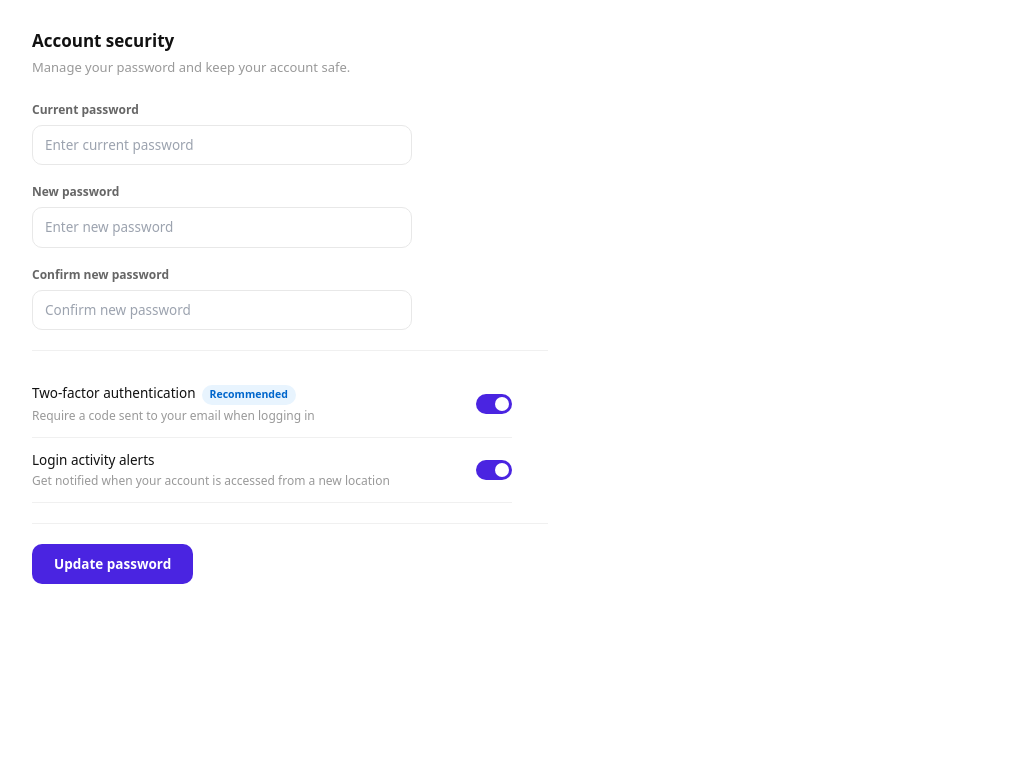
Scenario: SecuritySection › disabling two-factor authentication › asks for the current password and turns 2FA off on success
Click the checkbox in the row of "Recommended".
click(494, 404)  # box [476,394,512,414]
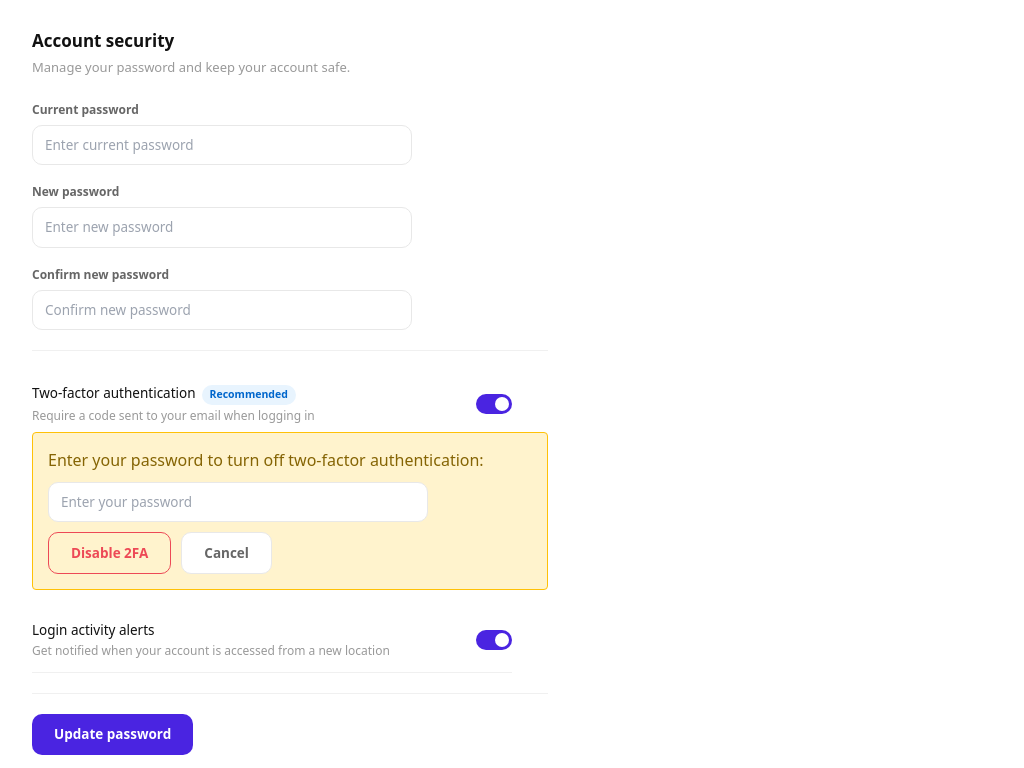
Check: the text "Enter your password to turn off two-factor authentication:" is shown, box [48,448,532,472]
Type "MyPassword123" into the password field with placeholder "Enter your password".
click(238, 502); type("MyPassword123")  # box [48,482,428,522]
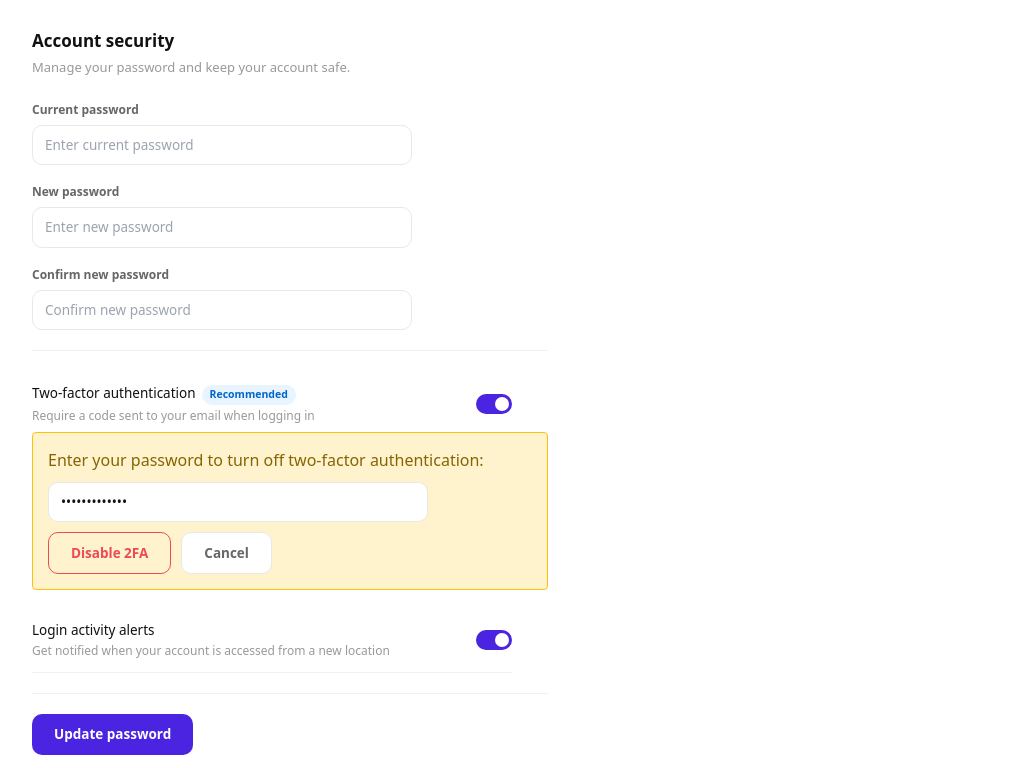
Click the button "Disable 2FA".
click(110, 553)  # box [48,532,171,574]
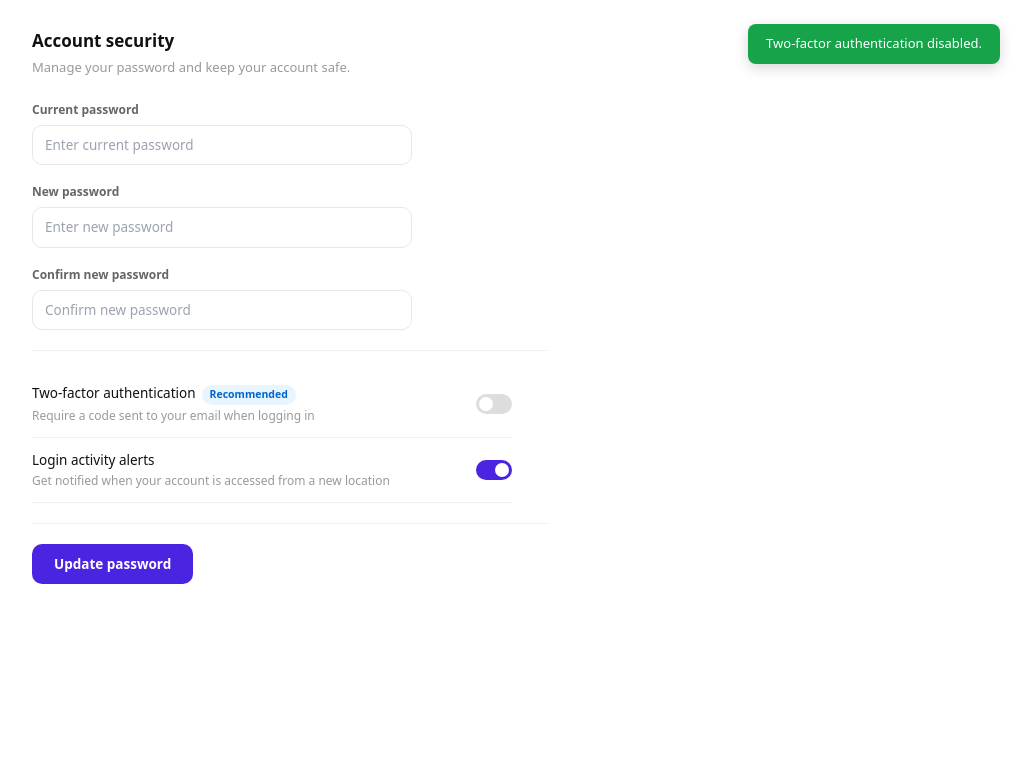
Check: the checkbox in the row of "Recommended" is not checked, box [476,394,512,414]
Check: the text "Two-factor authentication disabled." is shown, box [748,24,1000,64]
